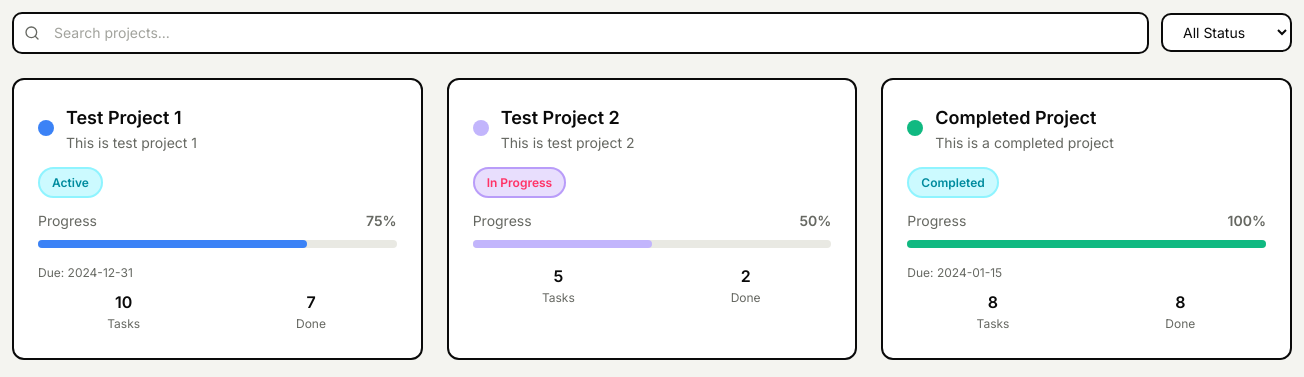
Test case: ProjectsList Component › Search Functionality › should filter projects based on search term
Expected: the heading "Test Project 1" is shown, x1=66 y1=104 x2=197 y2=132
Expected: the heading "Test Project 2" is shown, x1=501 y1=104 x2=635 y2=132
# Search for "Test"
Type "Test" into the field with placeholder "Search projects...". click: (580, 33)
box: x1=12 y1=12 x2=1149 y2=54
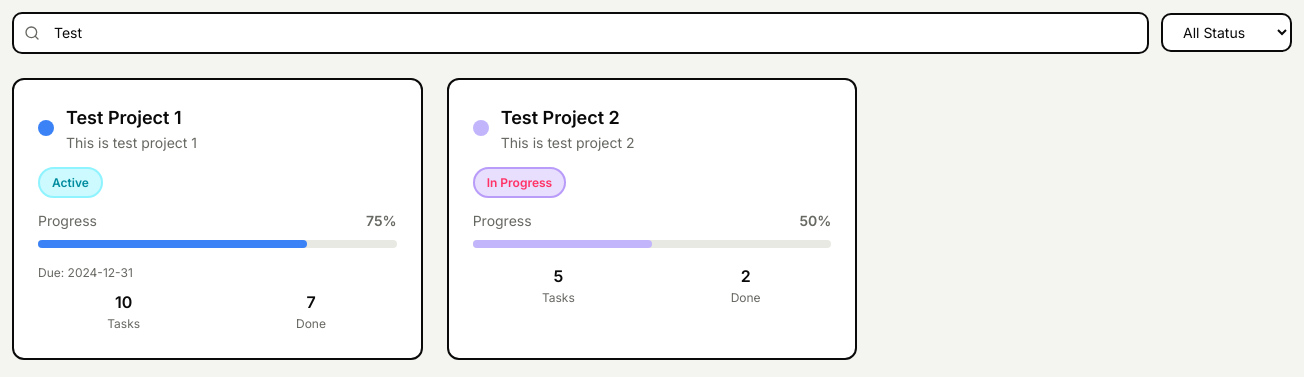
Expected: the heading "Test Project 1" is shown, x1=66 y1=104 x2=197 y2=132
Result: the heading "Completed Project" is gone
